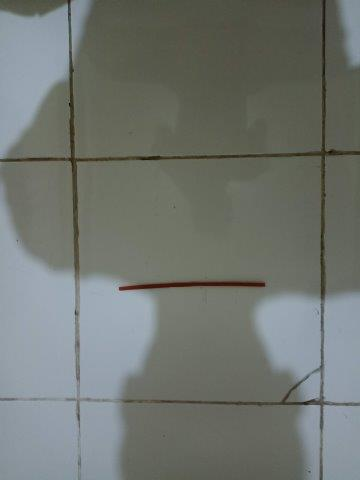sedotan: (120, 281, 266, 291)
